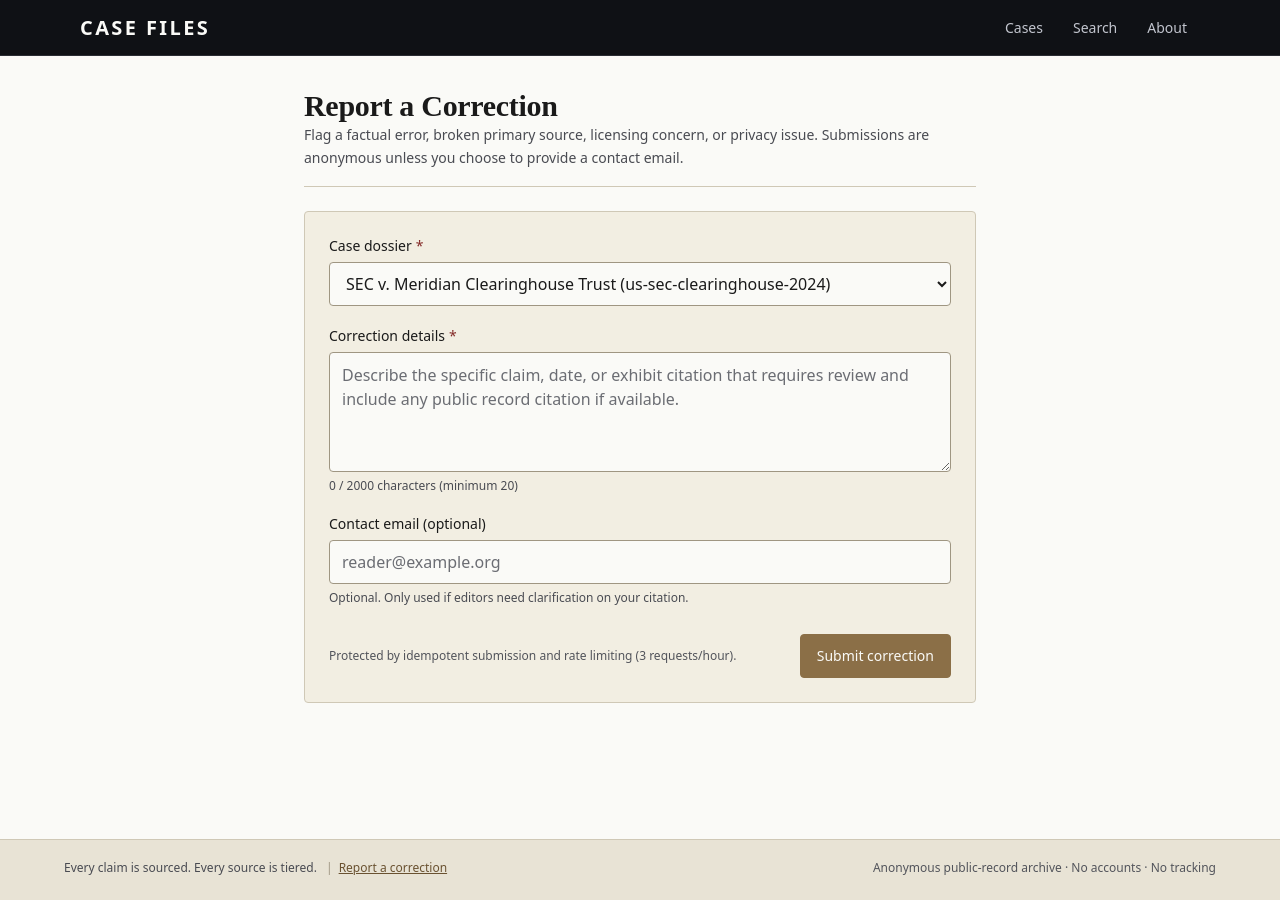
Test: Reader routes › CorrectionForm displays friendly retry countdown on HTTP 429
Type "Requesting review of exhibit filing timestamp from public docket entry 12." into the text box labelled "Correction details*". click: (640, 412)
box: [329, 352, 951, 472]
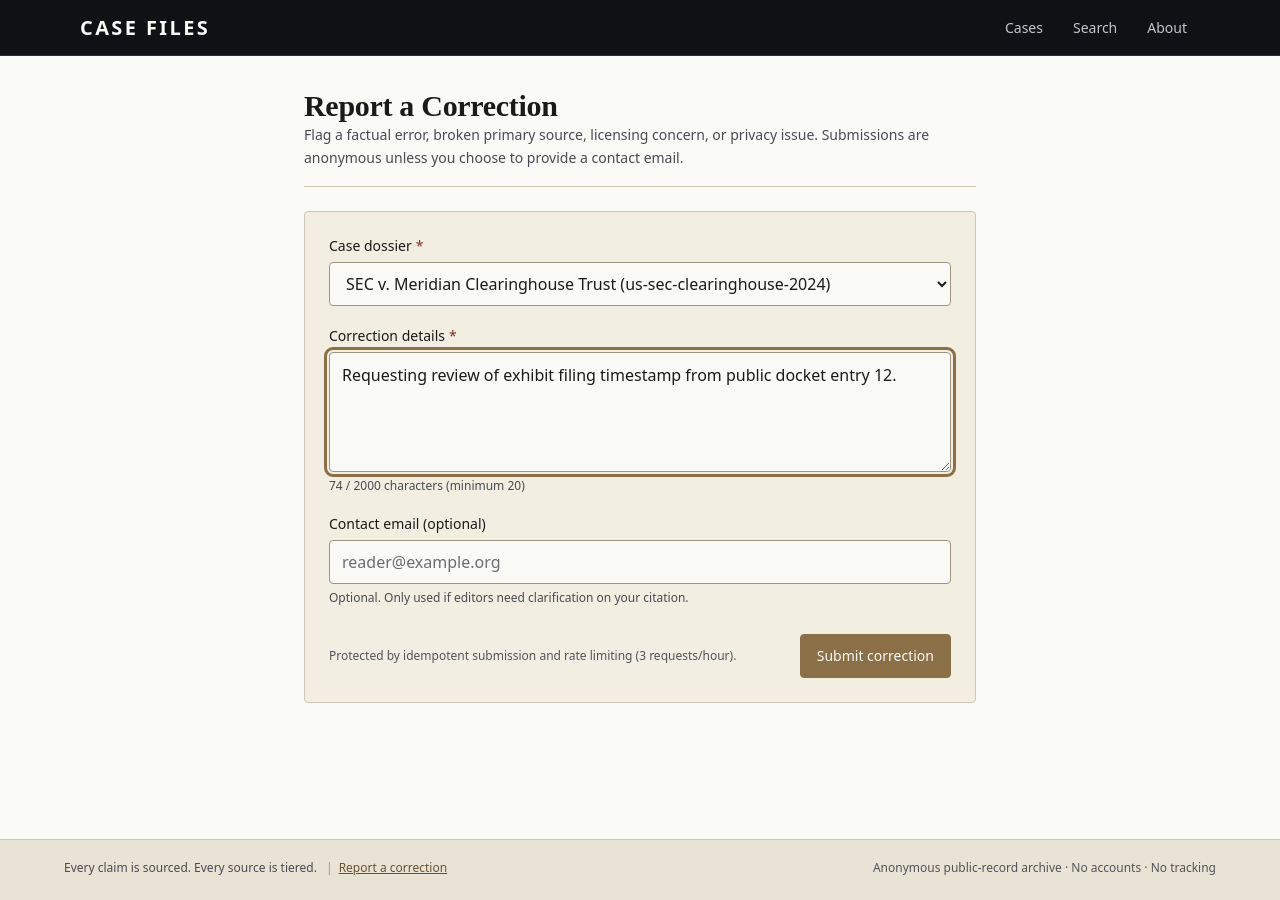
Click the button "Submit correction". click: (875, 656)
box: [800, 634, 951, 678]
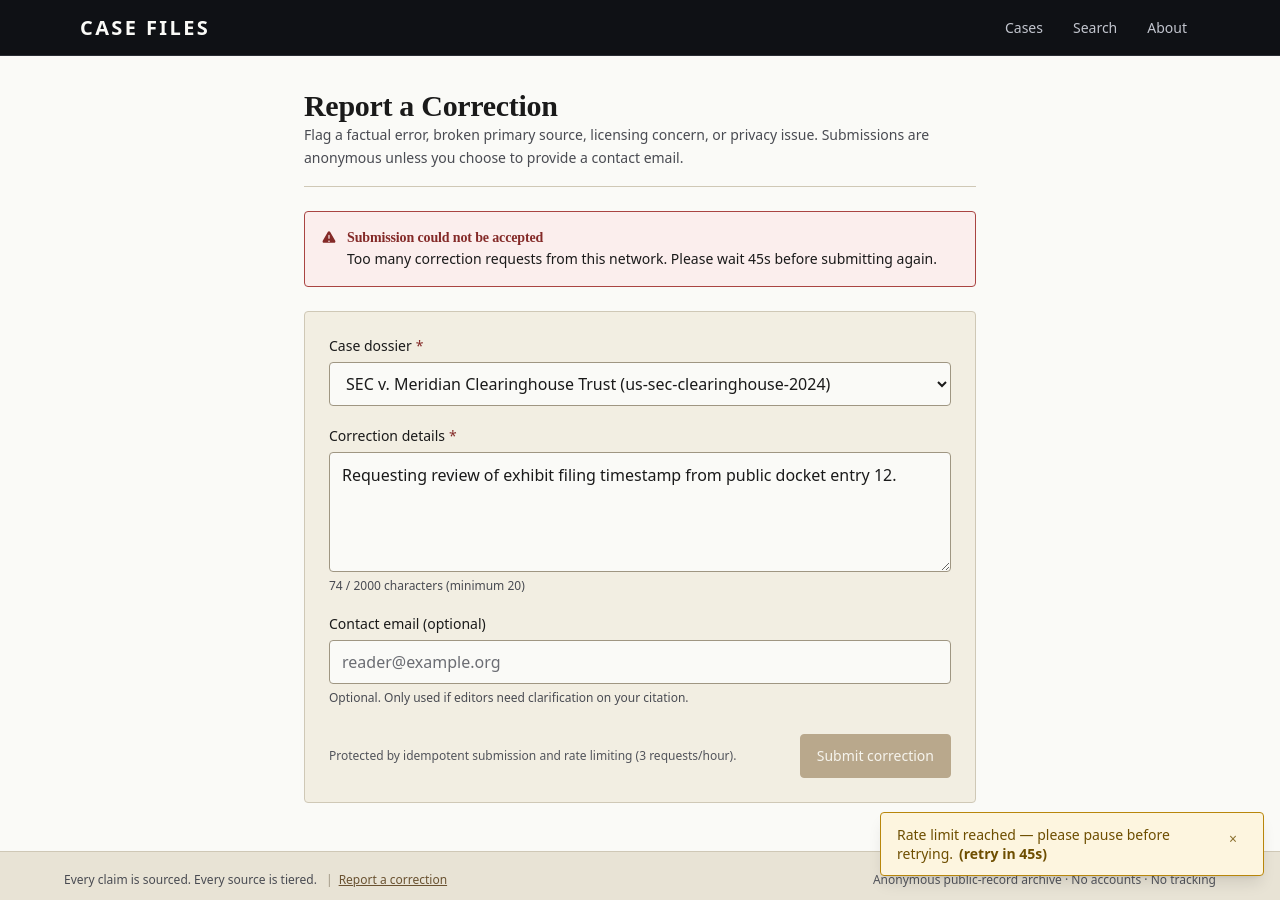
Result: the text "Too many correction requests" is shown at [347, 248, 744, 268]
Result: the text "Rate limit reached" is shown at [897, 824, 1170, 863]
